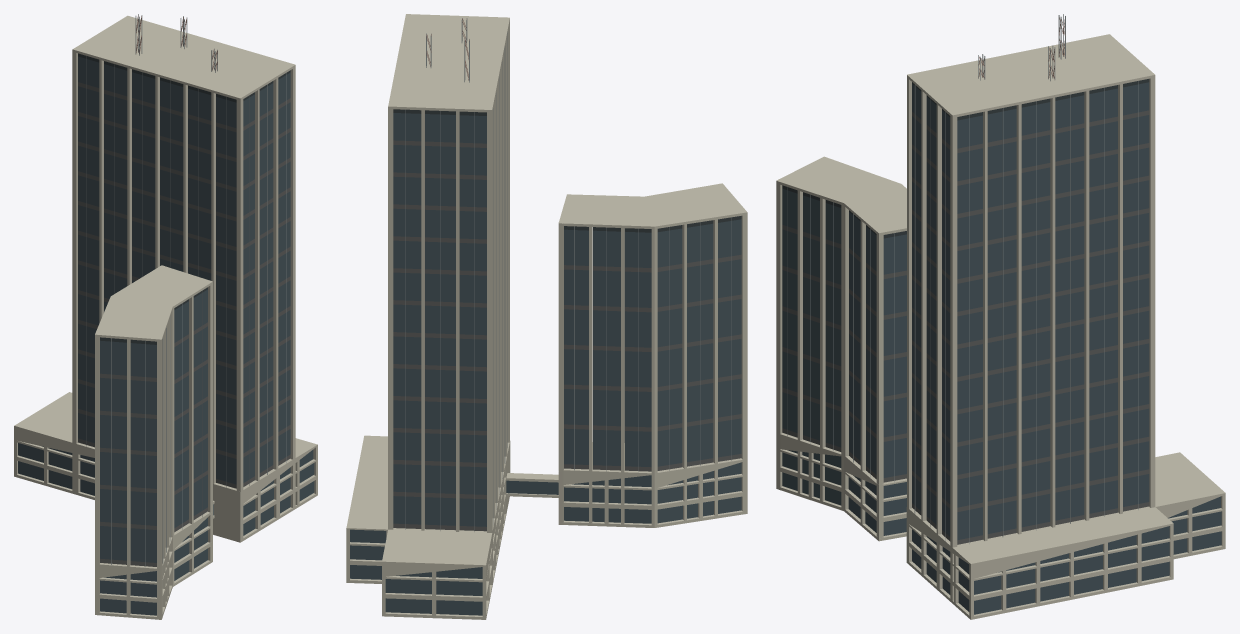
Rendered from athens-tower-far.glb.
The picture shows the model from 3 angles, left to right: view 1: azimuth 30°, elevation 25°; view 2: azimuth 150°, elevation 25°; view 3: azimuth 270°, elevation 25°; orthographic projection. The views are drawn at different scales.
Parts seen in each view (by area): view 1: athens-tower-0-glass, athens-tower-0-stone, athens-tower-0-spandrel, athens-tower-0-metal, athens-tower-0-shadow; view 2: athens-tower-0-glass, athens-tower-0-stone, athens-tower-0-spandrel, athens-tower-0-metal, athens-tower-0-shadow; view 3: athens-tower-0-glass, athens-tower-0-stone, athens-tower-0-spandrel, athens-tower-0-metal, athens-tower-0-shadow.
Boxes of the visible parts, <box> form: athens-tower-0-glass: <box>18,56,314,615</box>; athens-tower-0-stone: <box>14,15,317,619</box>; athens-tower-0-spandrel: <box>78,82,290,566</box>; athens-tower-0-metal: <box>86,14,286,567</box>; athens-tower-0-shadow: <box>78,53,290,344</box>; athens-tower-0-glass: <box>350,113,741,615</box>; athens-tower-0-stone: <box>346,14,747,619</box>; athens-tower-0-spandrel: <box>393,140,741,531</box>; athens-tower-0-metal: <box>405,18,731,531</box>; athens-tower-0-shadow: <box>393,109,741,232</box>; athens-tower-0-glass: <box>782,82,1221,614</box>; athens-tower-0-stone: <box>776,34,1225,619</box>; athens-tower-0-spandrel: <box>782,110,1149,544</box>; athens-tower-0-metal: <box>787,14,1138,543</box>; athens-tower-0-shadow: <box>782,79,1149,238</box>.
Size of the model in its own units: 70.29 by 112 by 85.96.
